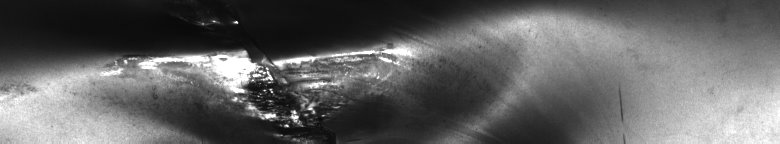ke: (101, 16, 414, 136)
